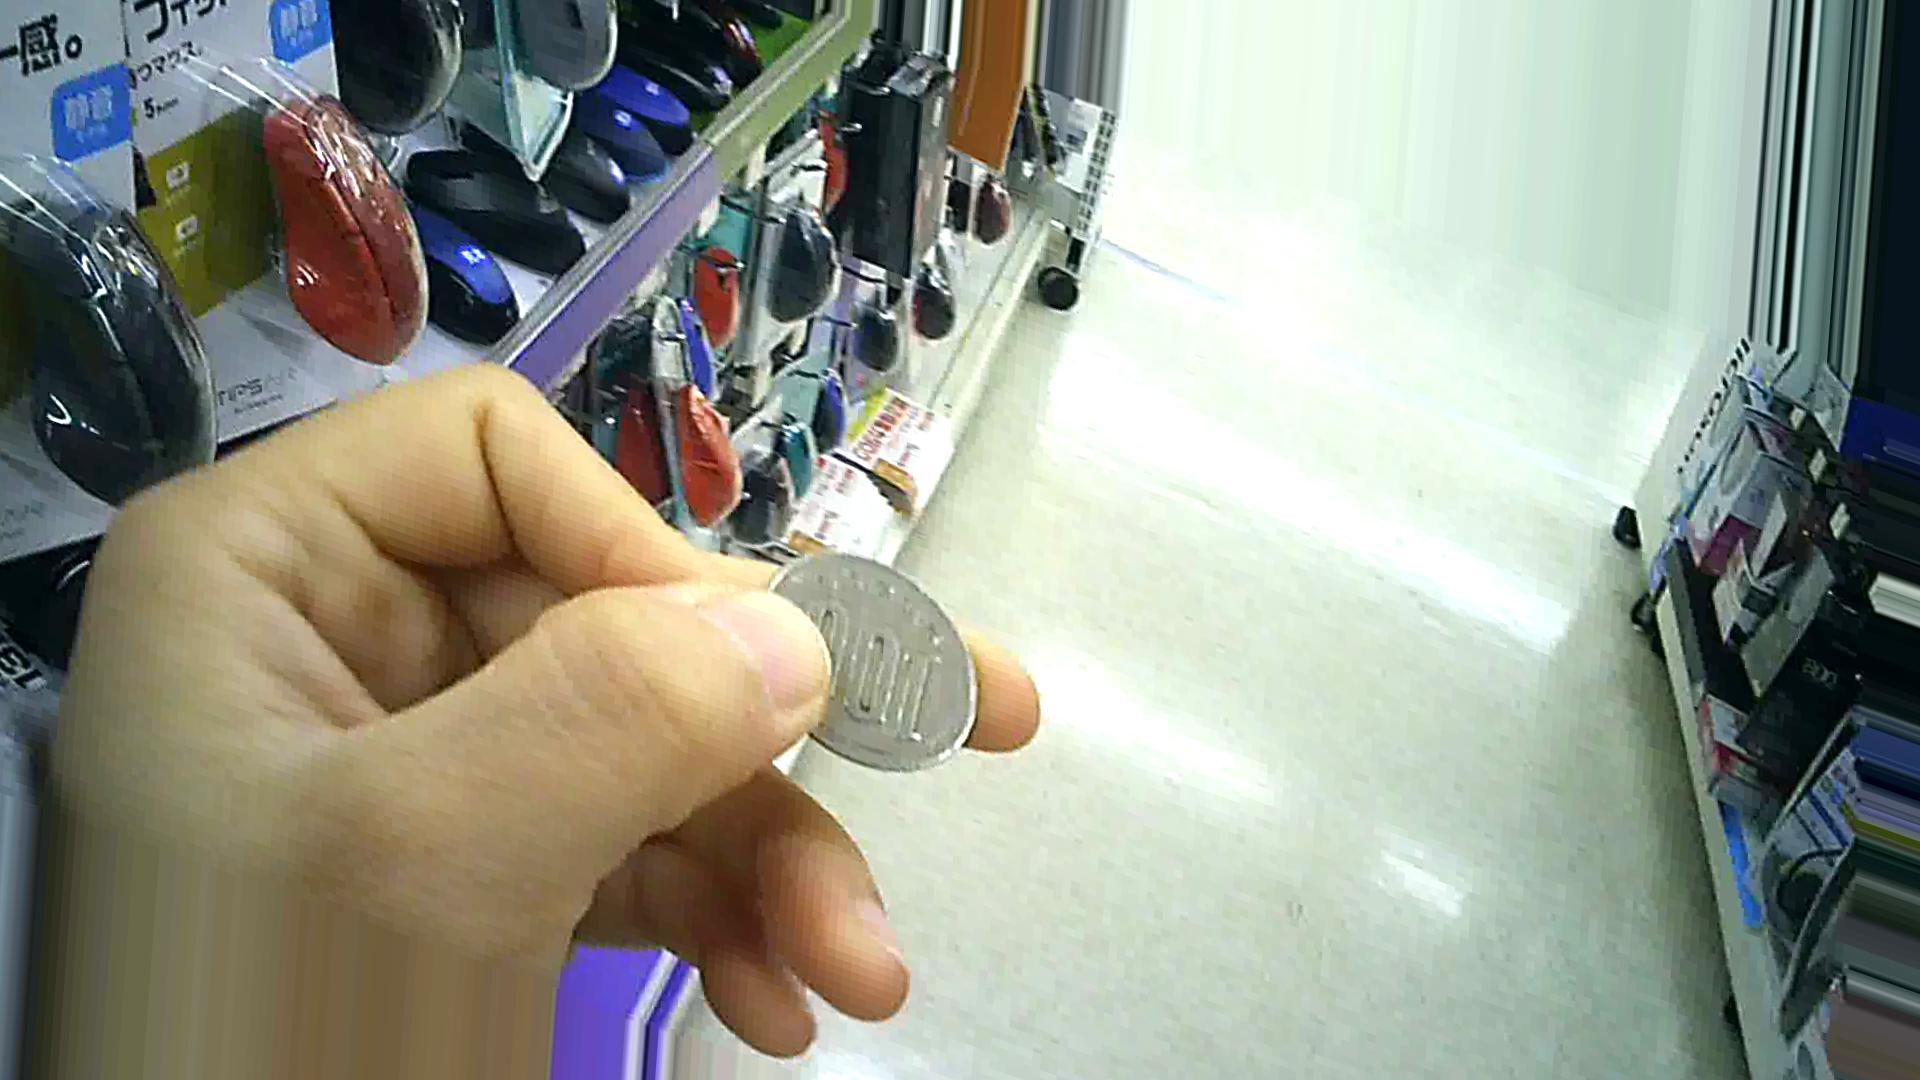100 Yen: (744, 545, 975, 789)
